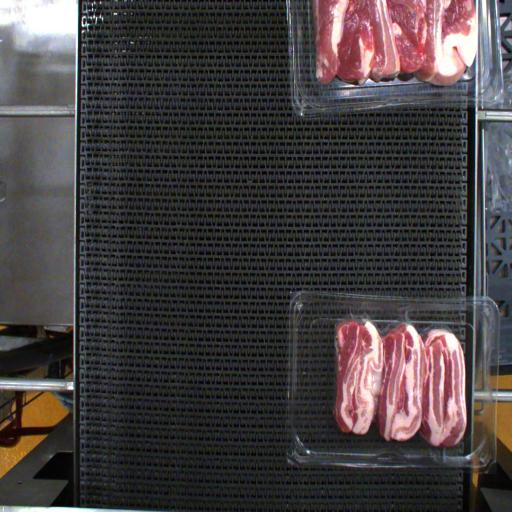packaging-error: (338, 297, 372, 325), (396, 304, 413, 324)
unsealed: (328, 311, 458, 340)
